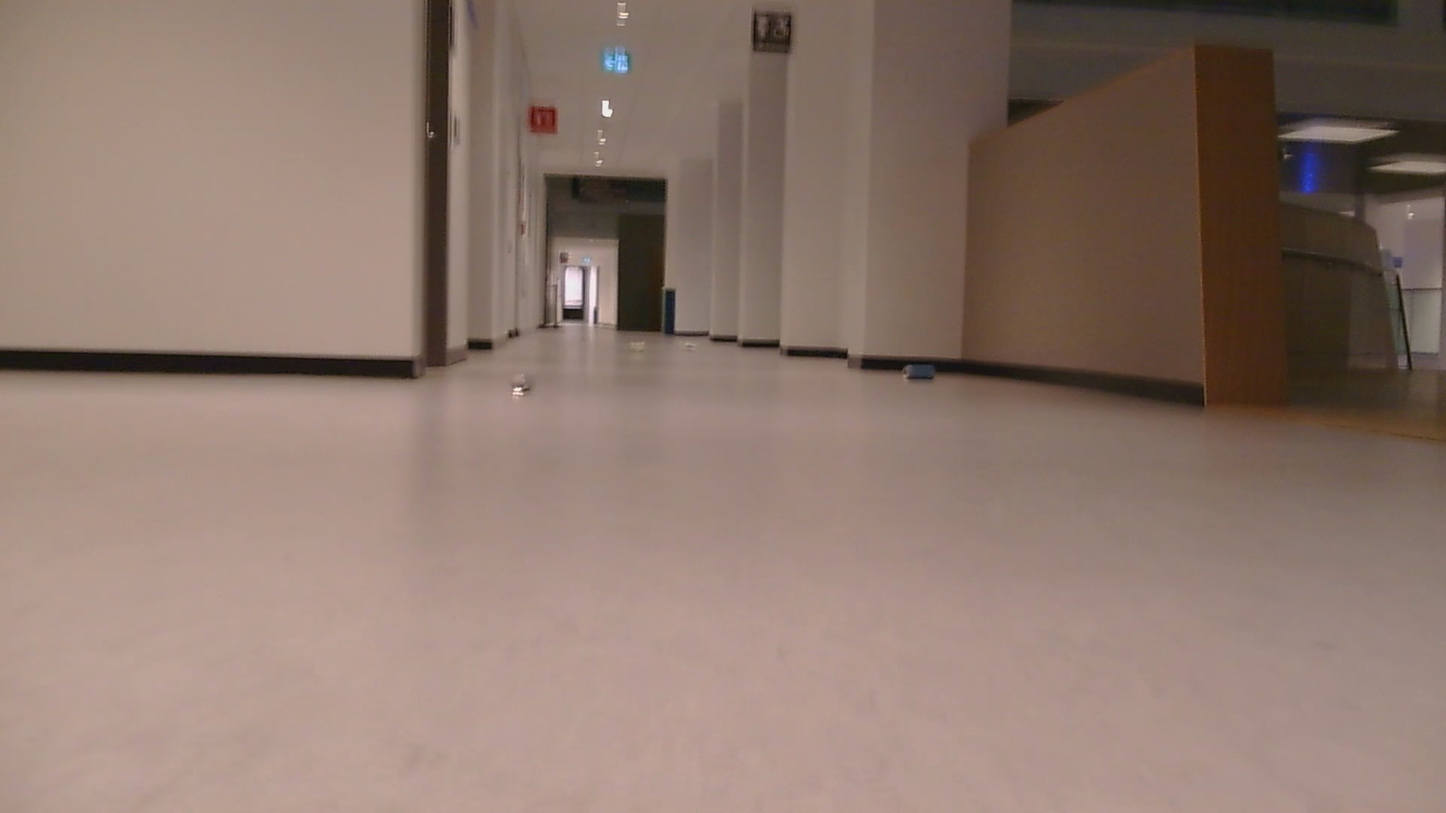carton: (484, 369, 558, 402), (901, 349, 948, 388), (625, 333, 666, 363)
